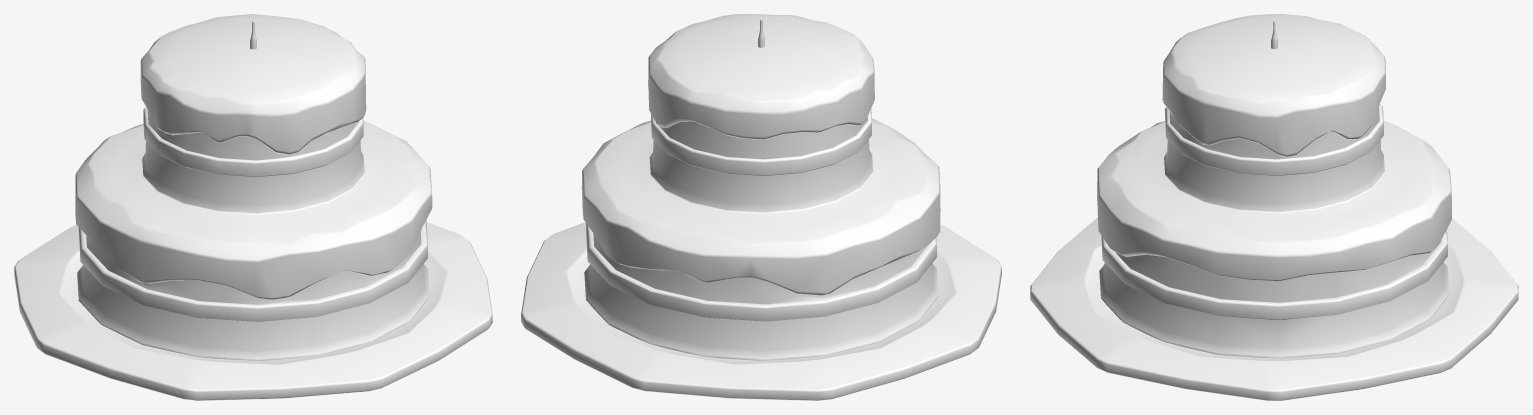
Rendered from PropBirthdayCakeGiant.glb.
The picture shows the model from 3 angles, left to right: view 1: azimuth 30°, elevation 25°; view 2: azimuth 150°, elevation 25°; view 3: azimuth 270°, elevation 25°; orthographic projection.
Parts seen in each view (by area): view 1: PropBirthdayCakeGiant; view 2: PropBirthdayCakeGiant; view 3: PropBirthdayCakeGiant.
Boxes of the visible parts, left/top/right/bottom form: PropBirthdayCakeGiant: left=14, top=14, right=492, bottom=400; PropBirthdayCakeGiant: left=521, top=14, right=1001, bottom=400; PropBirthdayCakeGiant: left=1030, top=14, right=1518, bottom=400.
Bounding box in the file's own units: 48.93 × 30.73 × 48.93.
Materials: 1 (1 with a texture image).
